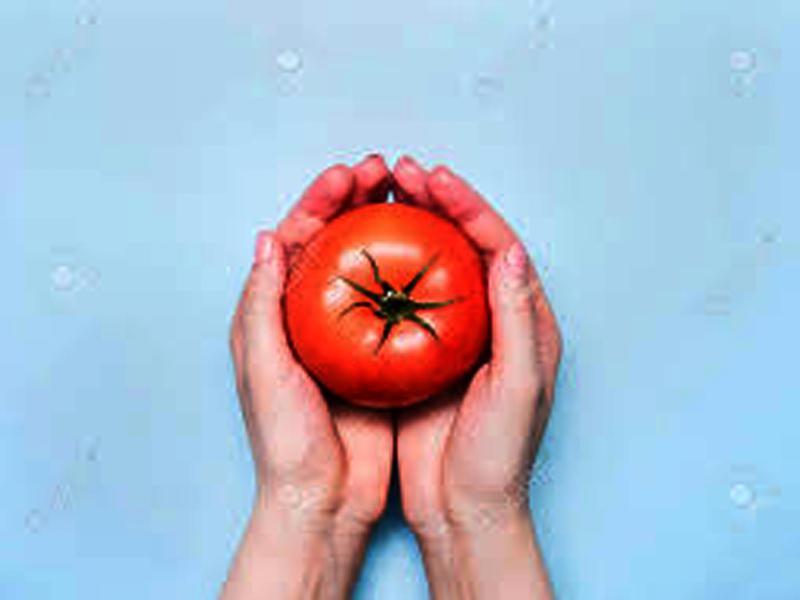Tomato: (283, 203, 494, 406)
